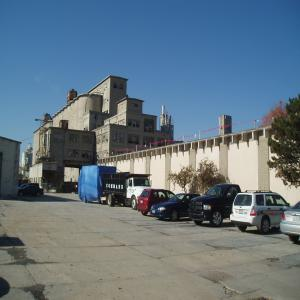Vehicle-registration-plate: (292, 217, 300, 222)
